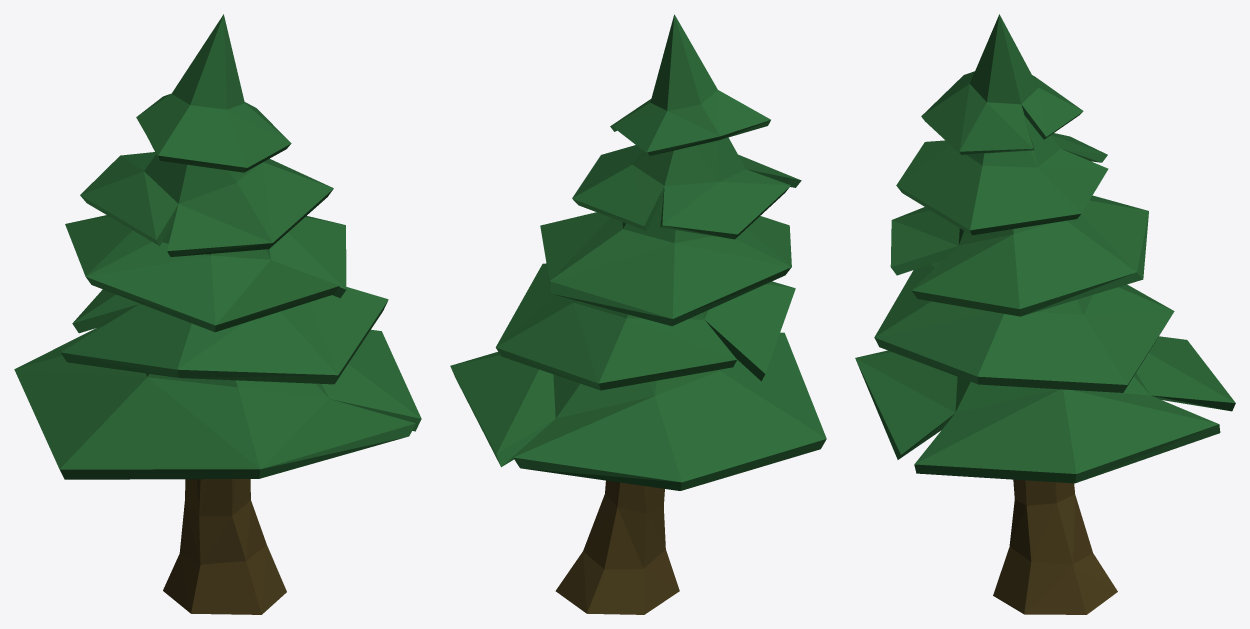
Rendered from Tree03.fbx.
The picture shows the model from 3 angles, left to right: view 1: azimuth 30°, elevation 25°; view 2: azimuth 150°, elevation 25°; view 3: azimuth 270°, elevation 25°; orthographic projection. The views are drawn at different scales.
Visible parts, largest first — view 1: Tree03; view 2: Tree03; view 3: Tree03.
Boxes of the visible parts, x1,y1,x2,y2 form: Tree03: [14, 14, 421, 614]; Tree03: [450, 14, 826, 614]; Tree03: [855, 14, 1235, 614].
Size of the model in its own units: 405 by 646 by 394.
1 material, 1 textured.
